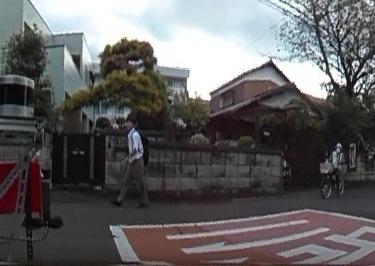person: (115, 114, 150, 209), (325, 141, 344, 191)
